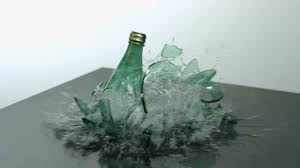glass: (96, 26, 149, 140), (141, 61, 226, 127), (157, 39, 188, 59)
